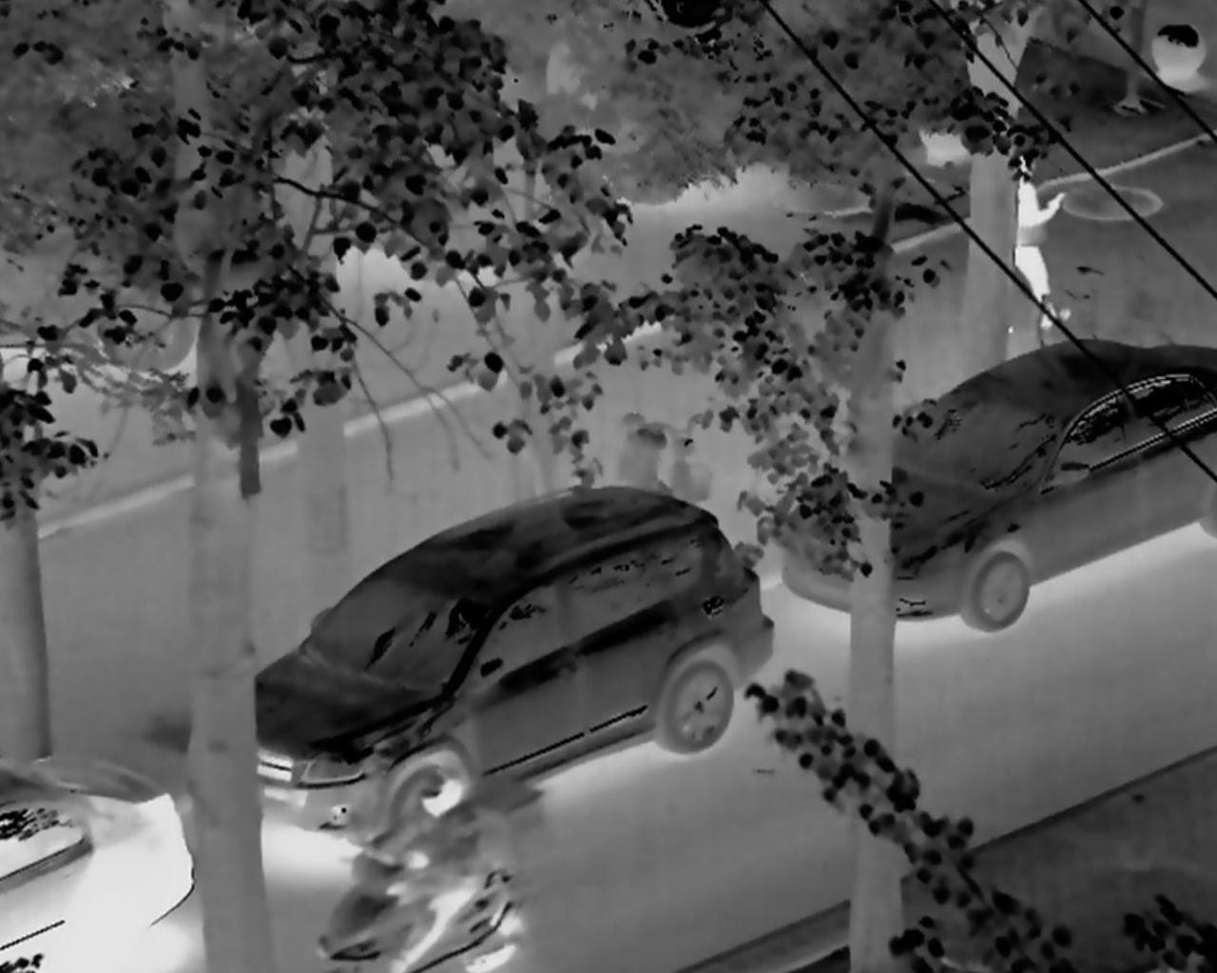person: (315, 727, 564, 964), (995, 148, 1097, 341)
